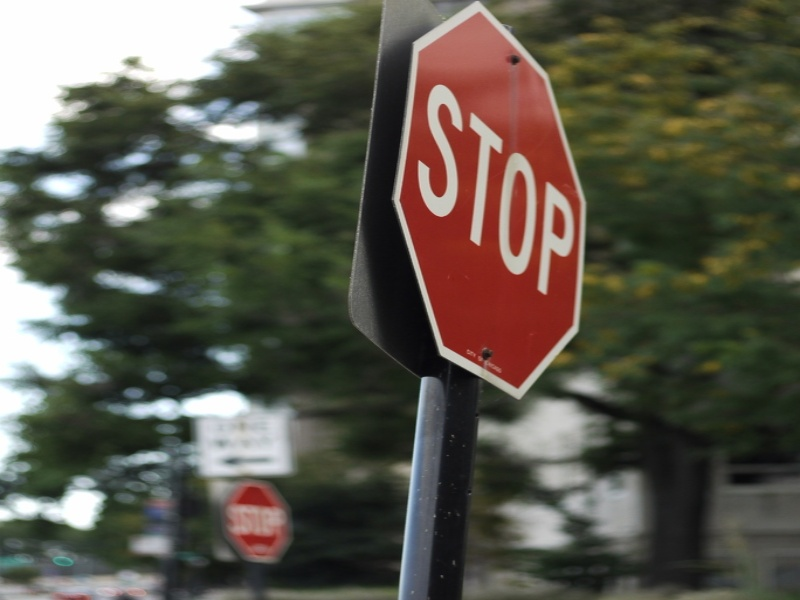stop: (400, 12, 636, 396)
